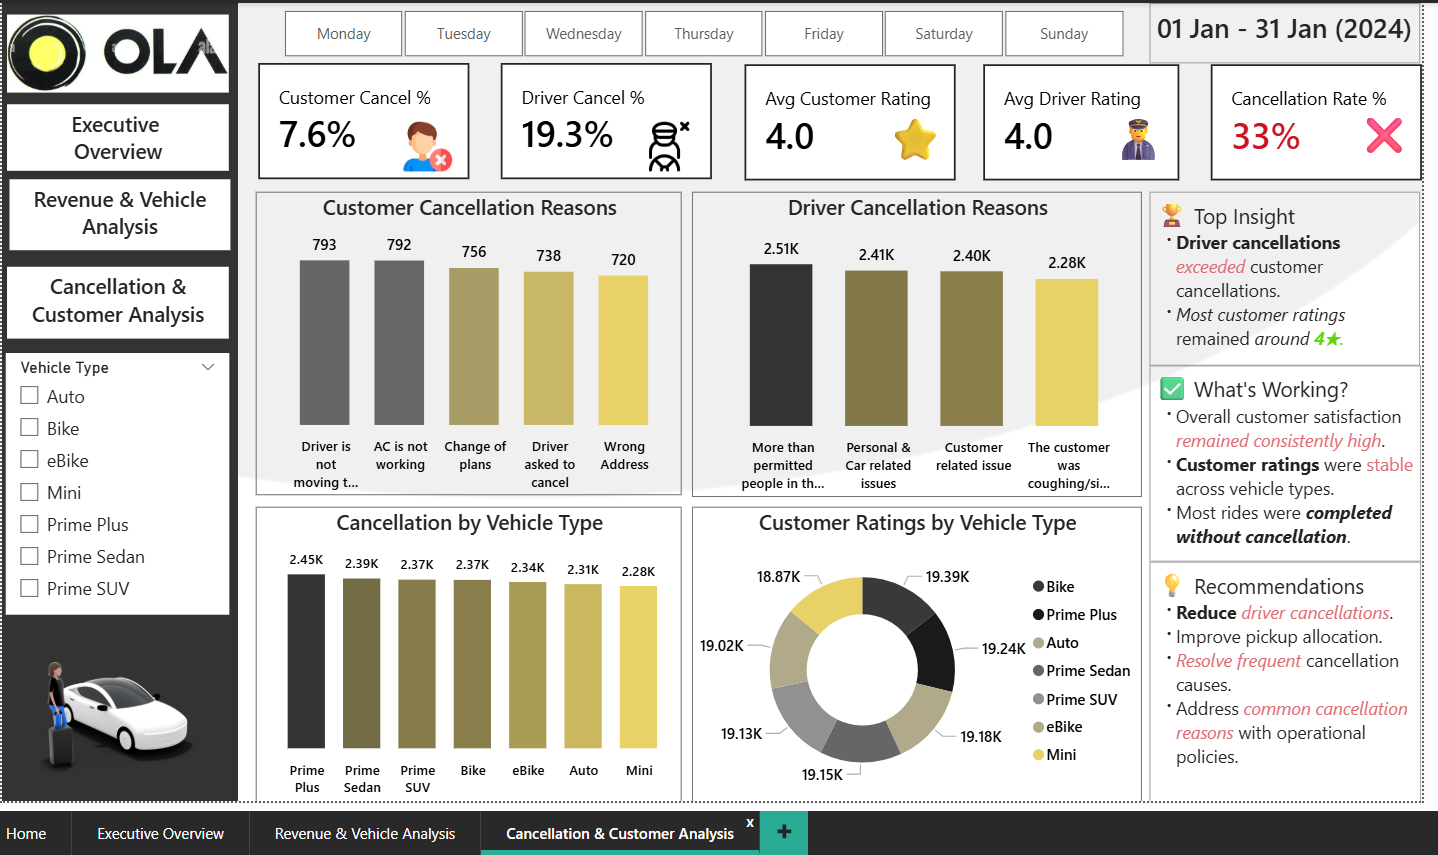

Layout of this report page (visuals, bound fields, positions):
{"tool":"powerbi","page":{"name":"Cancellation & Customer Analysis","canvas":[1280,720],"ordinal":3},"visuals":[{"type":"textbox","box":[1035,0,243.8,54.7],"z":0},{"type":"shape","box":[0,0,212.7,720.3],"z":1000},{"type":"cardVisual","fields":{"Data":["Bangaluru_ola.Customer Cancellation %"]},"box":[231.1,54.4,190,104.4],"z":2000},{"type":"cardVisual","fields":{"Data":["Bangaluru_ola.Avg Driver Rating"]},"box":[884.5,54.7,176.6,104.5],"z":3000},{"type":"cardVisual","fields":{"Data":["Bangaluru_ola.Cancellation Rate %"]},"box":[1089.7,54.7,190.3,104.5],"z":4000},{"type":"cardVisual","fields":{"Data":["Bangaluru_ola.Driver Cancellation %"]},"box":[450,54.4,190,104.4],"z":5000},{"type":"textbox","box":[5,90.8,200.3,59.7],"z":6000},{"type":"image","box":[5,0,200,90.8],"z":7000},{"type":"actionButton","box":[5,237.6,200.3,64.7],"z":8000},{"type":"textbox","box":[6.2,159.2,199,64],"z":9000},{"type":"actionButton","box":[3.4,90.3,204.4,59.8],"z":10000},{"type":"textbox","box":[5,237.6,200.3,64.7],"z":11000},{"type":"actionButton","box":[6.8,160.3,202.1,63.2],"z":12000},{"type":"slicer","fields":{"Values":["Bangaluru_ola.day_name"]},"box":[228.9,0,806.1,54.7],"z":13000},{"type":"slicer","fields":{"Values":["Bangaluru_ola.vehicle_type"]},"box":[3.7,316,201.5,236.4],"z":14000},{"type":"cardVisual","fields":{"Data":["Bangaluru_ola.Avg Customer Rating"]},"box":[669.3,54.7,190.3,104.5],"z":15000},{"type":"image","box":[0,552.3,212.7,167.9],"z":16000},{"type":"textbox","box":[1214.1,90.8,64.7,59.7],"z":17000},{"type":"donutChart","title":"Customer Ratings by Vehicle Type","fields":{"Category":["Bangaluru_ola.vehicle_type"],"Y":["Sum(Bangaluru_ola.customer_rating)"]},"box":[622,454,405.5,266.2],"z":18000},{"type":"clusteredColumnChart","title":"Customer Cancellation Reasons","fields":{"Category":["Bangaluru_ola.reason_for_cancelling_by_customer"],"Y":["Bangaluru_ola.Cancelled Rides"]},"box":[228.9,170.4,384.4,273.7],"z":19000},{"type":"clusteredColumnChart","title":"Cancellation by Vehicle Type","fields":{"Category":["Bangaluru_ola.vehicle_type"],"Y":["Bangaluru_ola.Cancelled Rides"]},"box":[228.9,454,384.4,266.2],"z":20000},{"type":"clusteredColumnChart","title":"Driver Cancellation Reasons","fields":{"Category":["Bangaluru_ola.reason_for_cancelling_by_driver"],"Y":["Bangaluru_ola.Driver Cancellation Count"]},"box":[622.2,170,405.6,275.6],"z":21000},{"type":"textbox","box":[792.4,90.8,62.2,59.7],"z":22000},{"type":"textbox","box":[993.9,90.8,58.5,59.7],"z":23000},{"type":"textbox","box":[1035,170.4,243.8,156.7],"z":24000},{"type":"textbox","box":[1035,327.2,245.1,176.6],"z":25000},{"type":"textbox","box":[1035,503.8,245.1,216.4],"z":26000},{"type":"image","box":[570,106.7,62.2,44.4],"z":27000},{"type":"image","box":[360,106.7,48.9,44.4],"z":28000}]}

Visuals, with their boxes on the page's 1280x720 design canvas (x1, y1, x2, y2). These are canvas units, not pixel positions in the 1438x855 screenshot, which may show the page scaled, cropped or inside an application window:
textbox: 1035, 0, 1279, 55
shape: 0, 0, 213, 720
cardVisual - Bangaluru_ola.Customer Cancellation %: 231, 54, 421, 159
cardVisual - Bangaluru_ola.Avg Driver Rating: 884, 55, 1061, 159
cardVisual - Bangaluru_ola.Cancellation Rate %: 1090, 55, 1280, 159
cardVisual - Bangaluru_ola.Driver Cancellation %: 450, 54, 640, 159
textbox: 5, 91, 205, 150
image: 5, 0, 205, 91
actionButton: 5, 238, 205, 302
textbox: 6, 159, 205, 223
actionButton: 3, 90, 208, 150
textbox: 5, 238, 205, 302
actionButton: 7, 160, 209, 224
slicer - Bangaluru_ola.day_name: 229, 0, 1035, 55
slicer - Bangaluru_ola.vehicle_type: 4, 316, 205, 552
cardVisual - Bangaluru_ola.Avg Customer Rating: 669, 55, 860, 159
image: 0, 552, 213, 720
textbox: 1214, 91, 1279, 150
"Customer Ratings by Vehicle Type" donutChart: 622, 454, 1028, 720
"Customer Cancellation Reasons" clusteredColumnChart: 229, 170, 613, 444
"Cancellation by Vehicle Type" clusteredColumnChart: 229, 454, 613, 720
"Driver Cancellation Reasons" clusteredColumnChart: 622, 170, 1028, 446
textbox: 792, 91, 855, 150
textbox: 994, 91, 1052, 150
textbox: 1035, 170, 1279, 327
textbox: 1035, 327, 1280, 504
textbox: 1035, 504, 1280, 720
image: 570, 107, 632, 151
image: 360, 107, 409, 151
